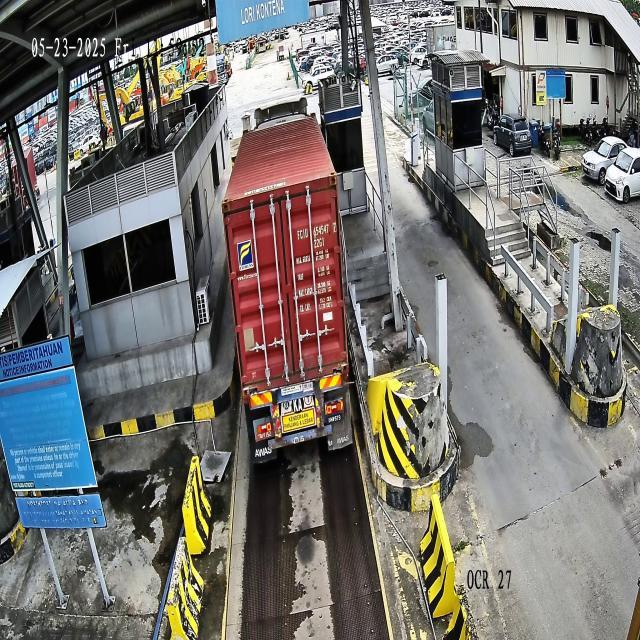ISO: (314, 234, 326, 248)
container_number: (296, 219, 339, 242)
